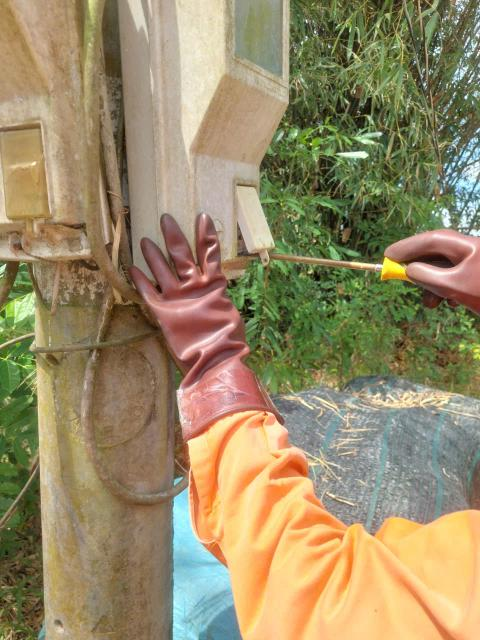gloves: (96, 188, 293, 442), (352, 186, 480, 339)
